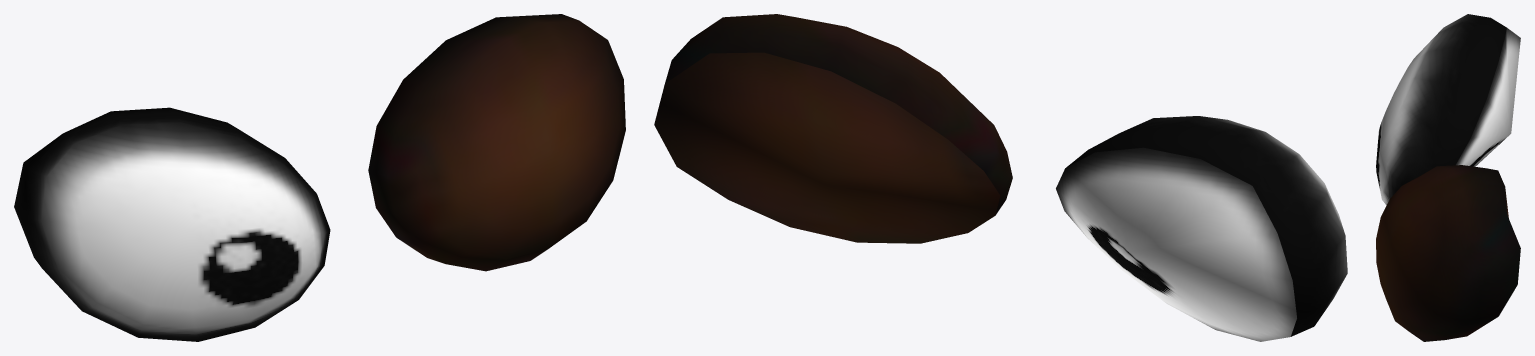
Rendered from m_e_hahudon.FBX.
3 views of the same model, side by side, from view 1: azimuth 30°, elevation 25°; view 2: azimuth 150°, elevation 25°; view 3: azimuth 270°, elevation 25° (orthographic). The views are drawn at different scales.
Parts seen in each view (by area): view 1: eye; view 2: eye; view 3: eye.
Part boxes in pixels (box(x1,y1,x2,y2)): eye: box(14, 14, 625, 341); eye: box(654, 14, 1347, 341); eye: box(1376, 14, 1520, 341).
Size of the model in its own units: 5.69 by 1.91 by 1.54.
